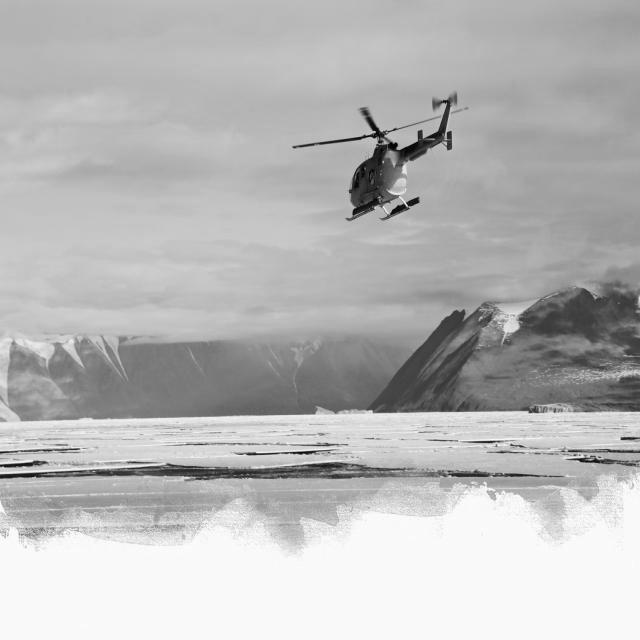helikopter: (287, 80, 483, 225)
